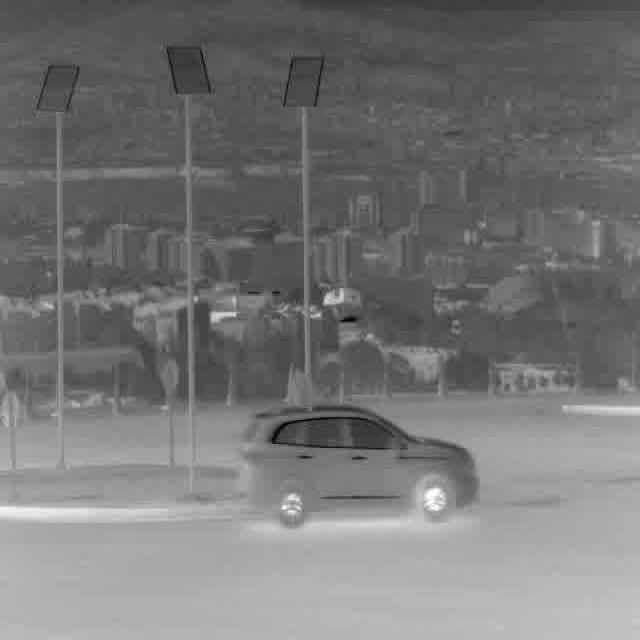Car: (242, 408, 482, 528)
